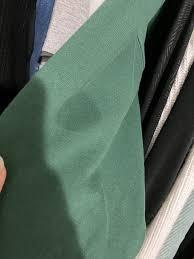mustard: (54, 94, 103, 134)
